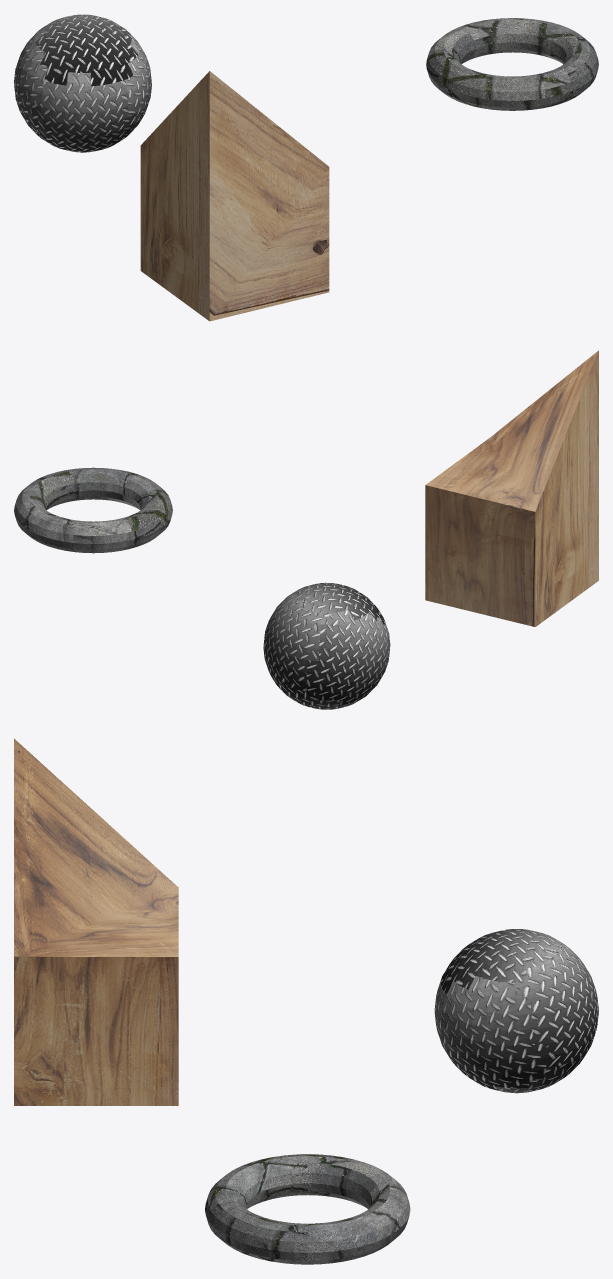
The model's file is objetos3.obj.
The picture shows the model from 3 angles, top to bottom: view 1: azimuth 30°, elevation 25°; view 2: azimuth 150°, elevation 25°; view 3: azimuth 270°, elevation 25°; orthographic projection. The views are drawn at different scales.
Visible parts, largest first — view 1: Cube_Cube.001, Sphere, Torus; view 2: Cube_Cube.001, Sphere, Torus; view 3: Cube_Cube.001, Sphere, Torus.
Part boxes in pixels (left/top/right/bottom): Cube_Cube.001: left=140, top=71, right=329, bottom=321; Sphere: left=14, top=14, right=151, bottom=152; Torus: left=426, top=18, right=598, bottom=110; Cube_Cube.001: left=425, top=350, right=598, bottom=626; Sphere: left=263, top=582, right=390, bottom=709; Torus: left=14, top=467, right=172, bottom=553; Cube_Cube.001: left=14, top=738, right=178, bottom=1105; Sphere: left=434, top=929, right=598, bottom=1093; Torus: left=205, top=1154, right=410, bottom=1264.
Bounding box in the file's own units: 8.37 × 4 × 7.11.
